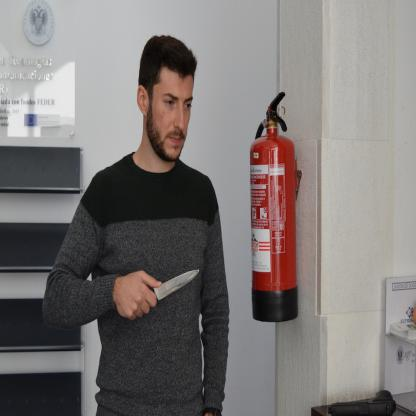knife: (143, 263, 202, 304)
